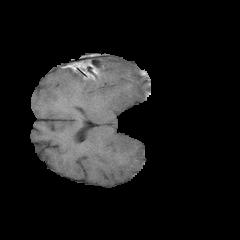glioma: (42, 60, 111, 107)
